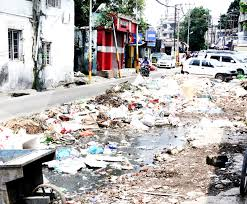garbage: (99, 89, 238, 188), (56, 104, 156, 157)
